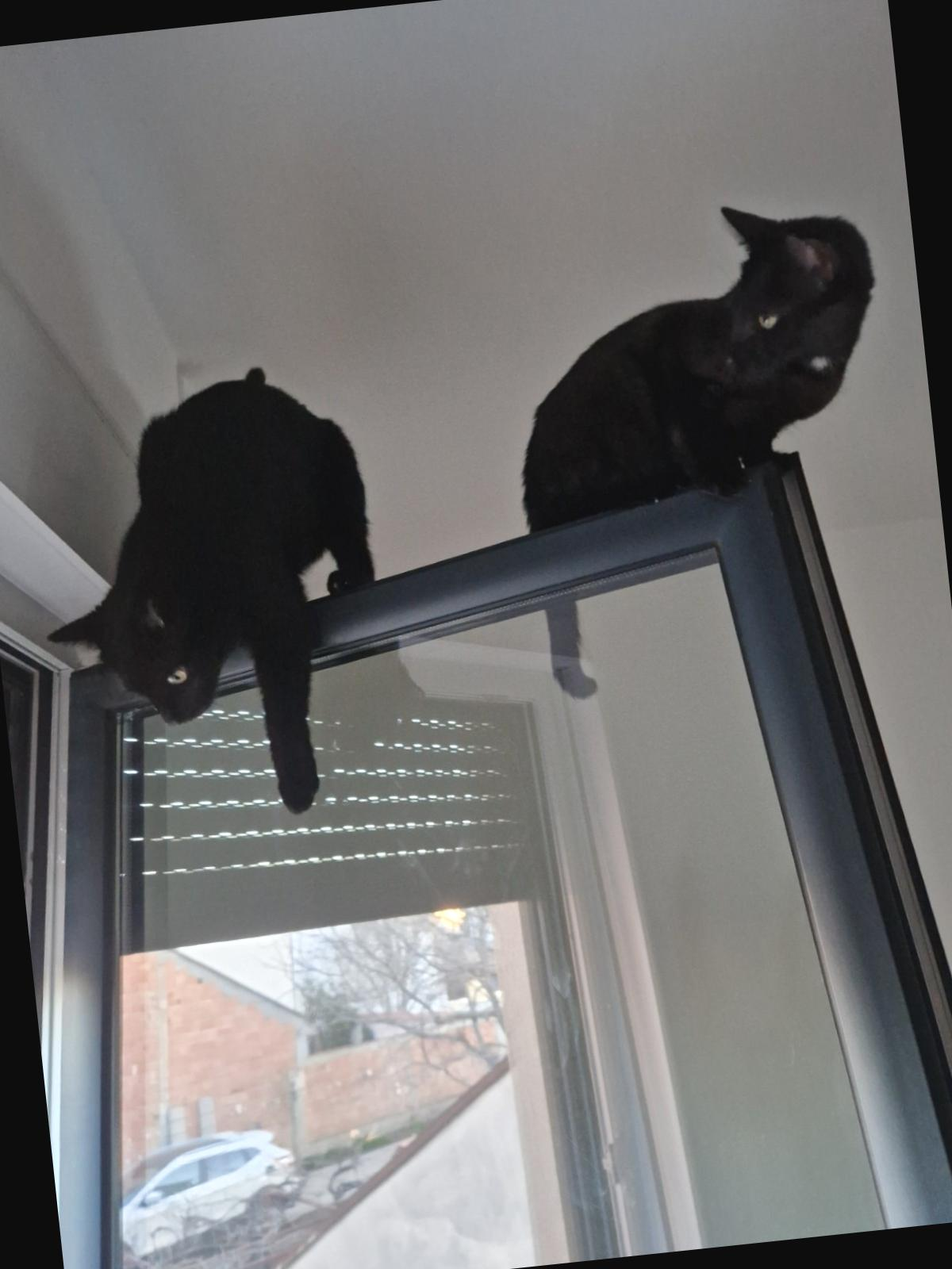macka: (489, 187, 921, 715), (19, 348, 404, 843)
